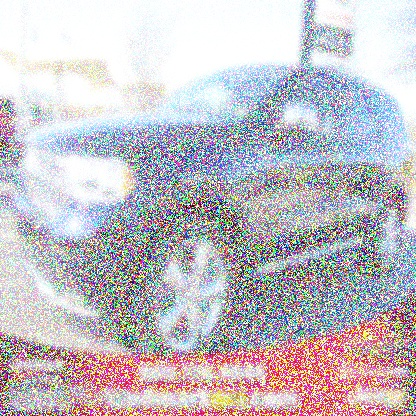Vehicle: (10, 60, 416, 357)
